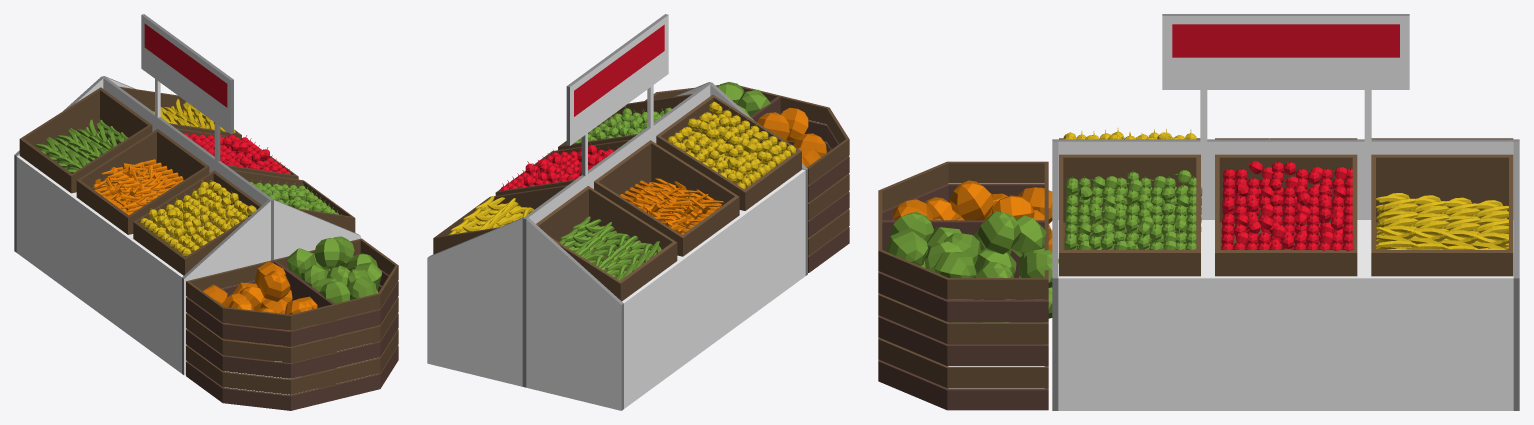
The model's file is SM_shelf_03.fbx.
3 renders of one model, left to right at view 1: azimuth 30°, elevation 25°; view 2: azimuth 150°, elevation 25°; view 3: azimuth 270°, elevation 25°, orthographic. The views are drawn at different scales.
Visible parts, largest first — view 1: SM_shelf_03; view 2: SM_shelf_03; view 3: SM_shelf_03.
Part boxes in pixels (x1,y1,x2,y2): SM_shelf_03: [14, 14, 398, 410]; SM_shelf_03: [427, 14, 849, 410]; SM_shelf_03: [878, 14, 1519, 410].
Bounding box in the file's own units: 224 × 296 × 511.
